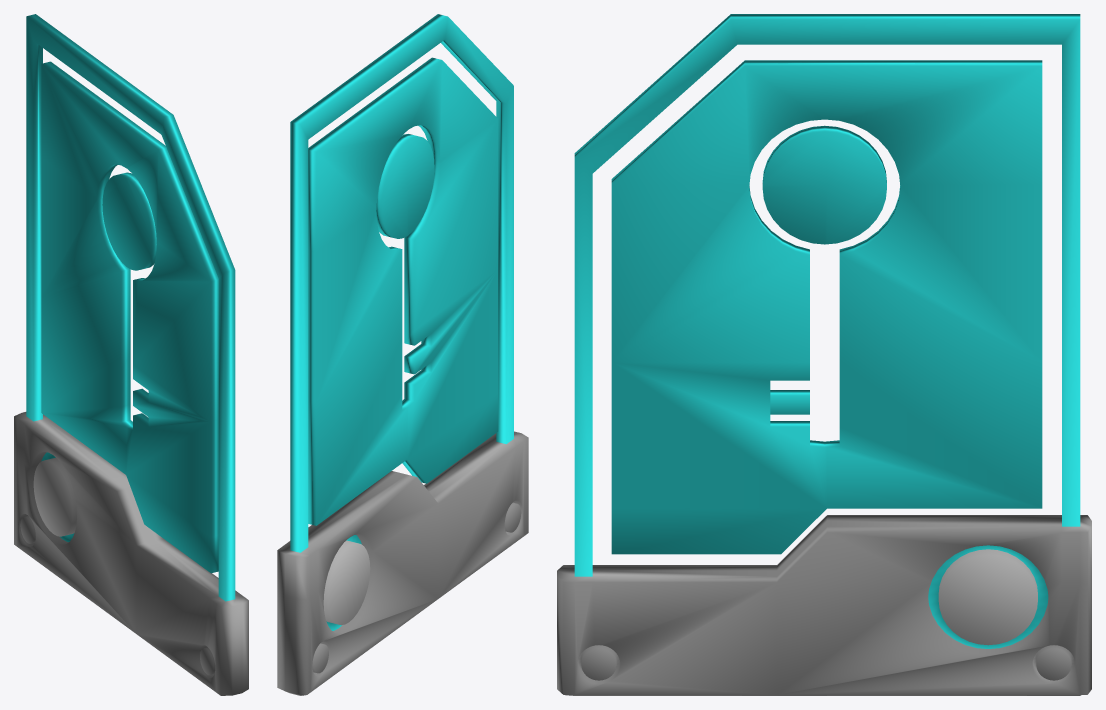
Rendered from card.fbx.
3 renders of one model, left to right at view 1: azimuth 30°, elevation 25°; view 2: azimuth 150°, elevation 25°; view 3: azimuth 270°, elevation 25°, orthographic. The views are drawn at different scales.
Visible parts, largest first — view 1: Card; view 2: Card; view 3: Card.
Part boxes in pixels (box(x1,y1,x2,y2)): Card: box(14, 14, 248, 695); Card: box(277, 14, 528, 695); Card: box(557, 14, 1091, 695).
Size of the model in its own units: 22.3 by 405 by 291.
